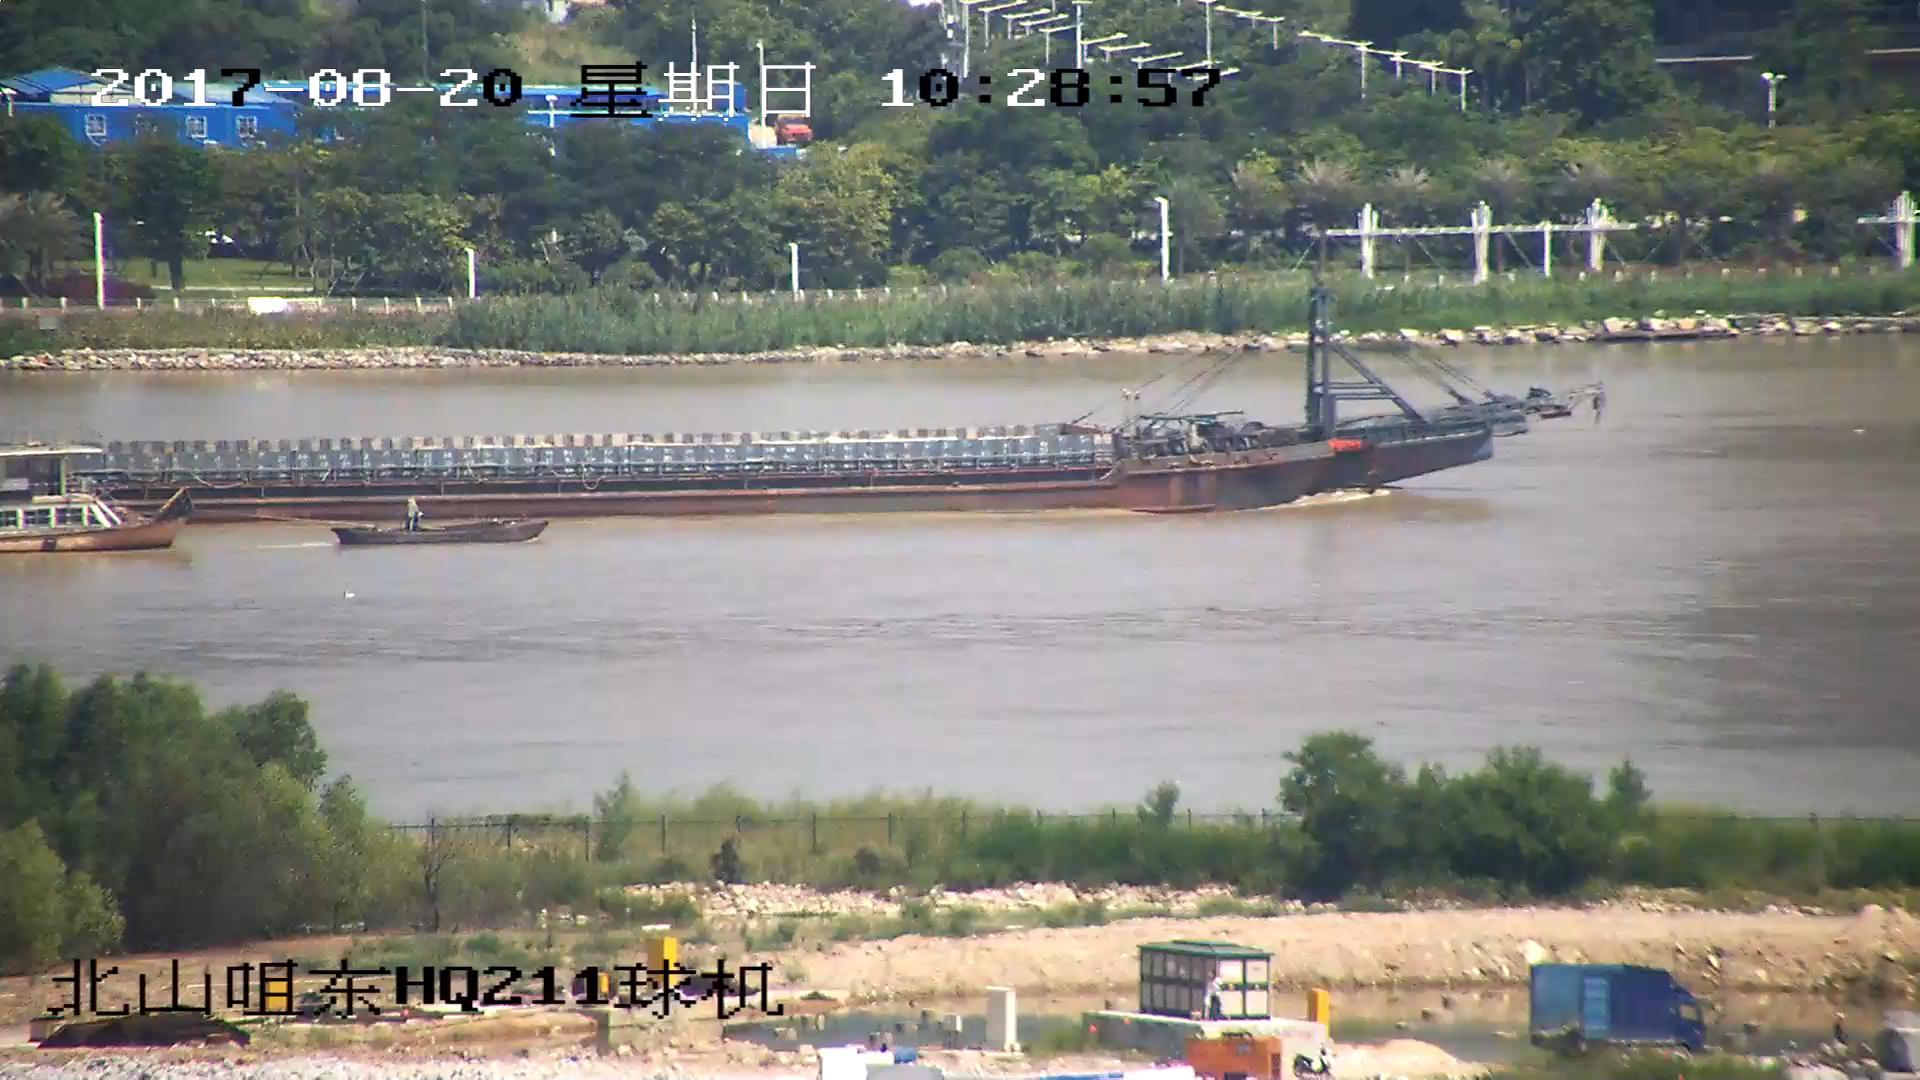Ship: (3, 277, 1600, 525), (3, 448, 193, 550), (339, 500, 547, 549)
